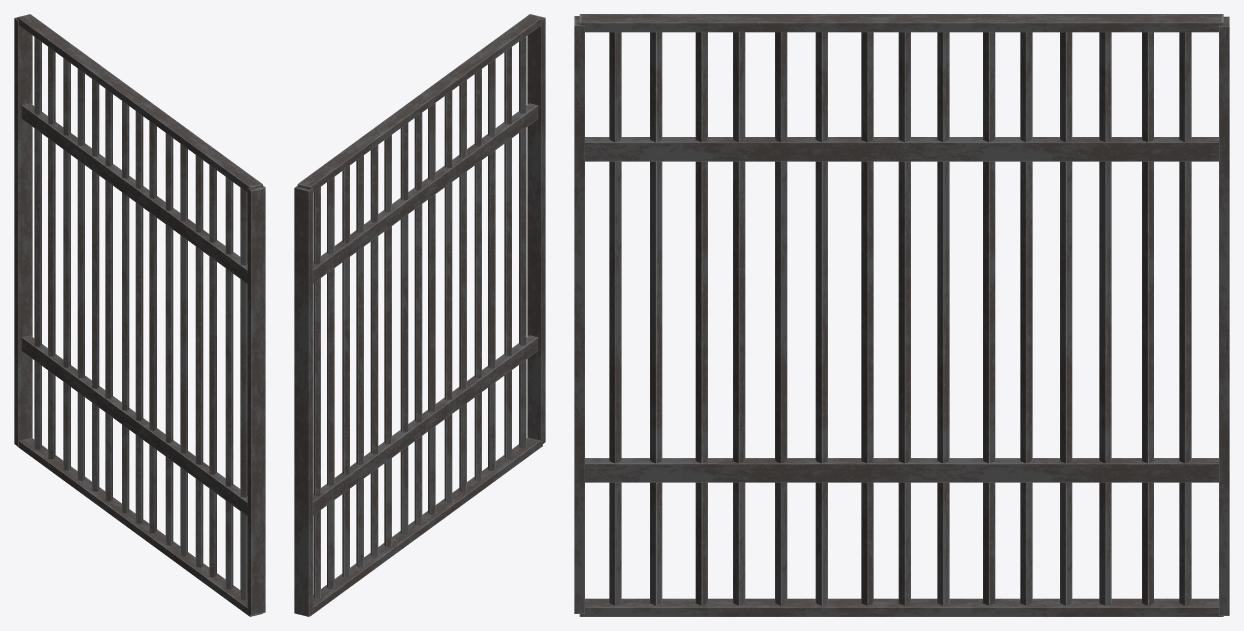
Rendered from Prop_CageWall.fbx.
3 views of the same model, side by side, from view 1: azimuth 30°, elevation 25°; view 2: azimuth 150°, elevation 25°; view 3: azimuth 270°, elevation 25° (orthographic). The views are drawn at different scales.
Parts seen in each view (by area): view 1: CDTMesh_CageWall; view 2: CDTMesh_CageWall; view 3: CDTMesh_CageWall.
Boxes of the visible parts, x1=… form: CDTMesh_CageWall: x1=14, y1=14, x2=265, y2=616; CDTMesh_CageWall: x1=294, y1=14, x2=545, y2=616; CDTMesh_CageWall: x1=574, y1=14, x2=1229, y2=616.
Bounding box in the file's own units: 0.1447 × 4.07 × 4.07.
1 material, 1 textured.
